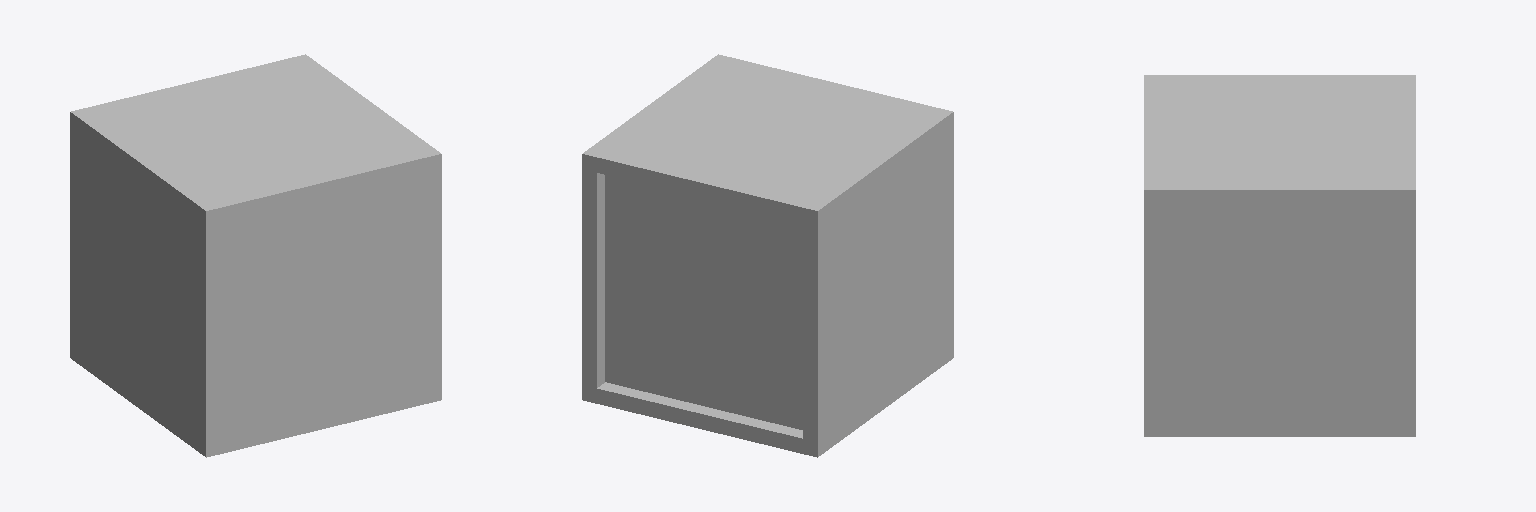
The model's file is lock_closed.obj.
3 renders of one model, left to right at view 1: azimuth 30°, elevation 25°; view 2: azimuth 150°, elevation 25°; view 3: azimuth 270°, elevation 25°, orthographic.
Parts seen in each view (by area): view 1: south, west, up, east, north; view 2: cube, west, up, north, east, south; view 3: east, up, west, north, south.
Boxes of the visible parts, x1=… form: south: x1=213, y1=151, x2=426, y2=453; west: x1=70, y1=108, x2=220, y2=457; up: x1=94, y1=64, x2=417, y2=200; east: x1=292, y1=54, x2=441, y2=403; north: x1=85, y1=58, x2=298, y2=113; cube: x1=605, y1=175, x2=802, y2=429; west: x1=803, y1=108, x2=953, y2=457; up: x1=606, y1=64, x2=929, y2=200; north: x1=597, y1=151, x2=810, y2=453; east: x1=582, y1=54, x2=731, y2=403; south: x1=725, y1=58, x2=938, y2=113; east: x1=1144, y1=183, x2=1415, y2=436; up: x1=1161, y1=82, x2=1398, y2=182; west: x1=1144, y1=75, x2=1415, y2=81; north: x1=1399, y1=82, x2=1415, y2=182; south: x1=1144, y1=82, x2=1160, y2=182.
Bounding box in the file's own units: 1 × 1 × 1.